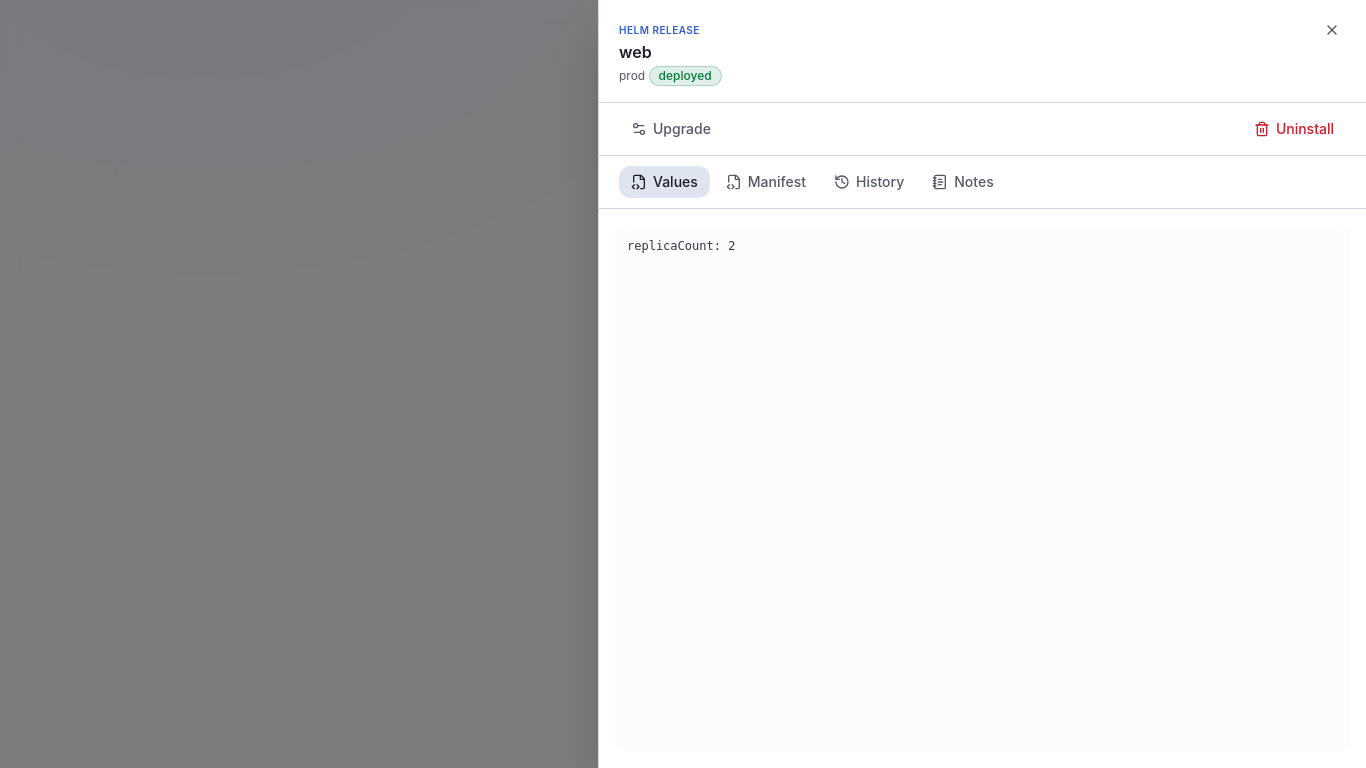
Test: HelmReleaseDrawer › fetches the manifest lazily when the Manifest tab is opened
Expected: the text "replicaCount: 2" is shown, [615, 225, 1350, 752]
Click the button "Manifest" at (766, 182), box [714, 166, 818, 198]
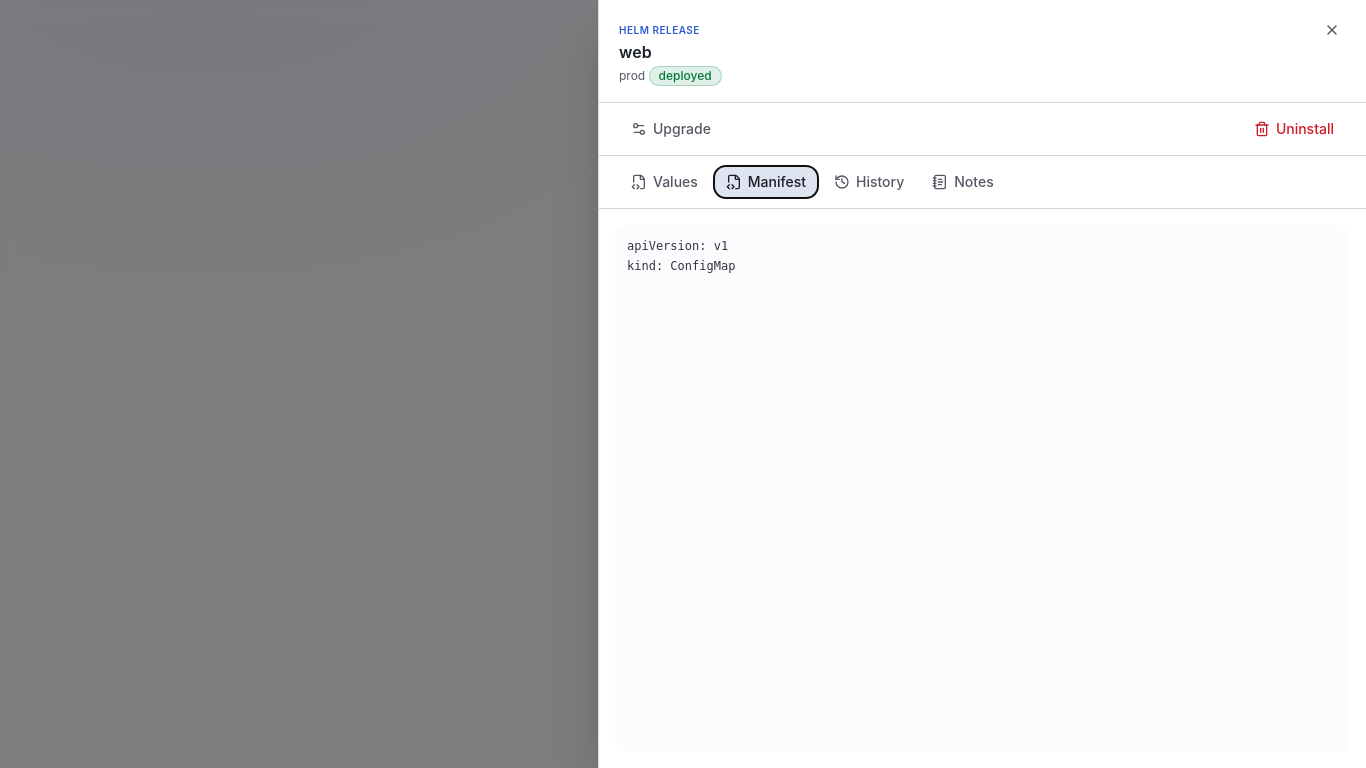
Now the text "apiVersion: v1 kind: ConfigMap" is shown, box [615, 225, 1350, 752]
